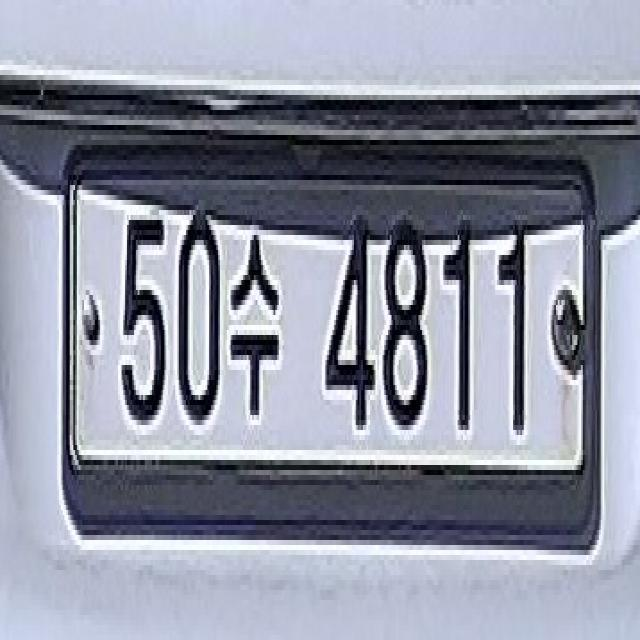0: (178, 198, 224, 434)
1: (441, 212, 484, 450), (493, 212, 536, 442)
4: (321, 202, 378, 450)
5: (120, 196, 170, 442)
8: (381, 208, 437, 446)
license_plate: (53, 163, 612, 536)
su: (230, 221, 292, 438)
